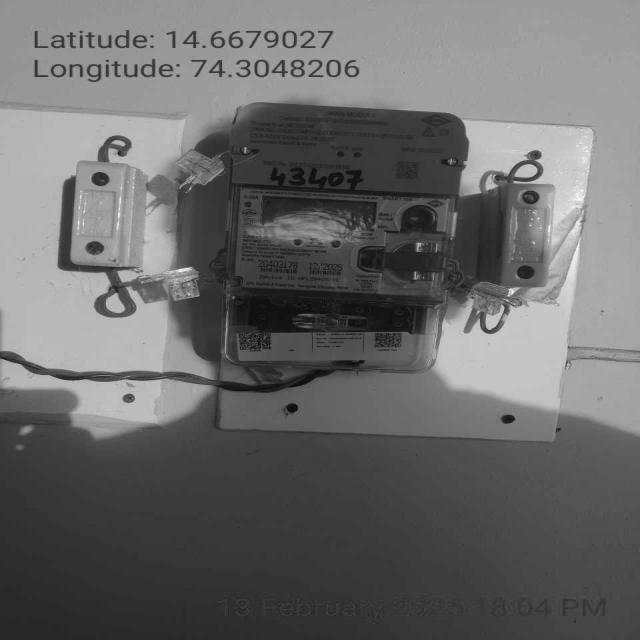meter: (222, 102, 465, 304)
